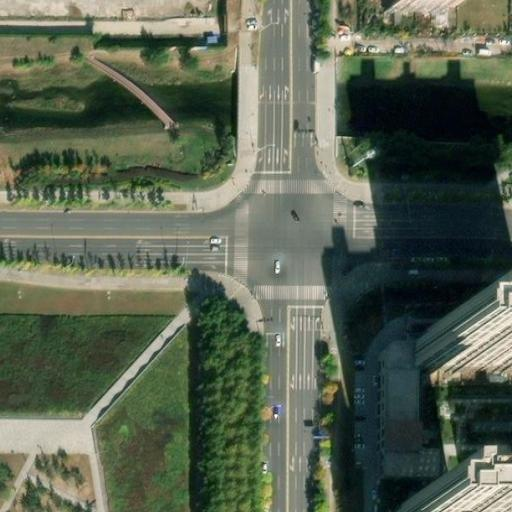building: (388, 345, 439, 512), (415, 332, 512, 373)
